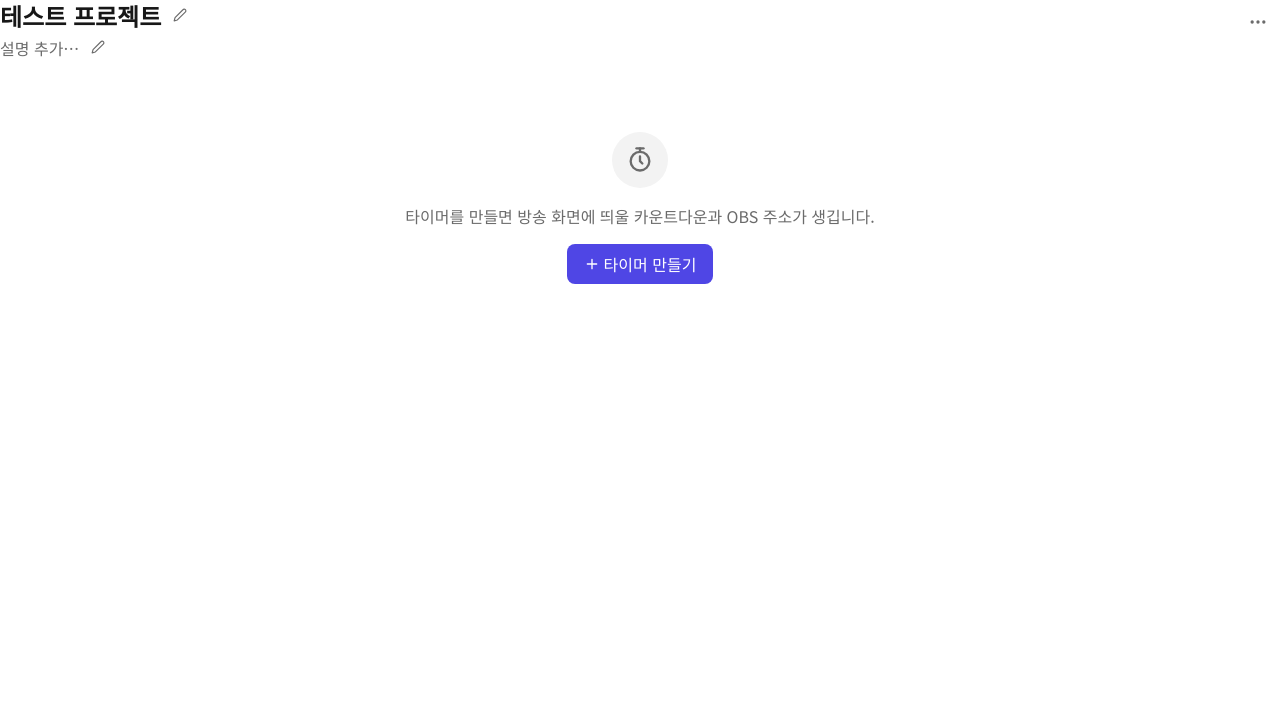
프로젝트 상세 키보드 포커스 › 새 타이머 모달을 열면 미리 채워진 제목 대신 시간 칸에 포커스가 간다
Click the button "타이머 만들기".
click(640, 264)  # box 567,244 -> 713,284
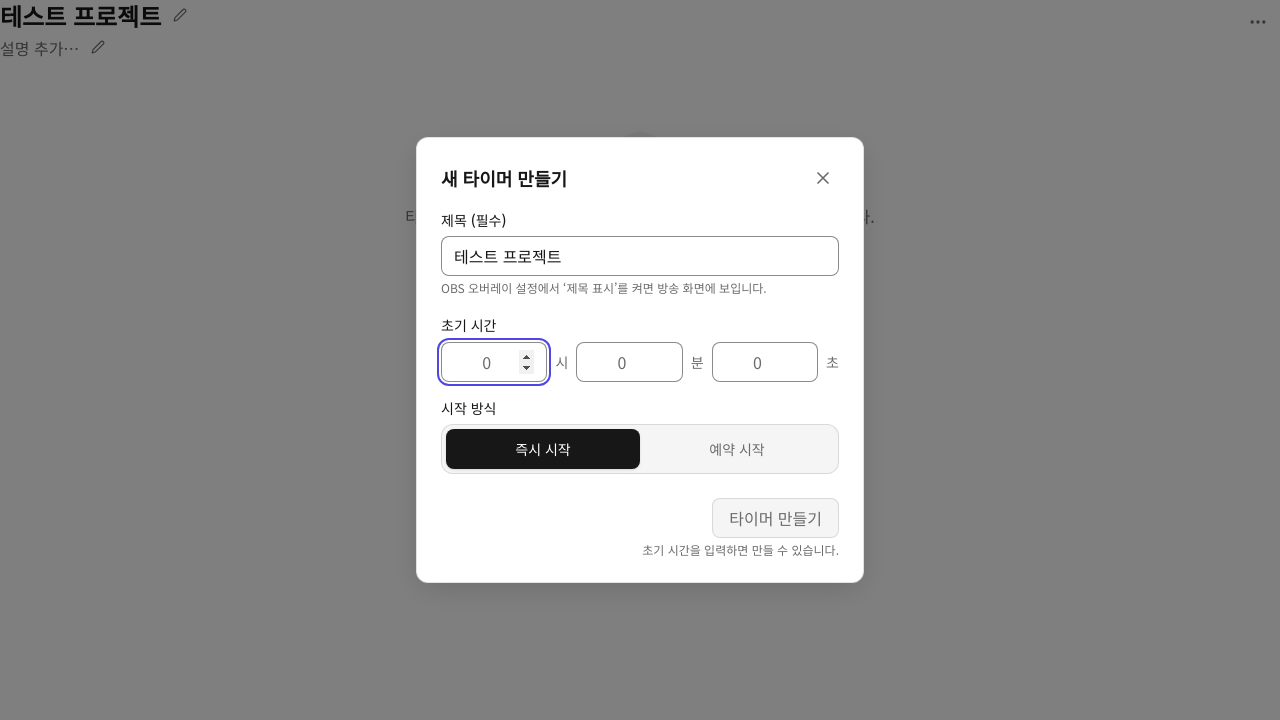
Now the heading "새 타이머 만들기" is shown, box 441,164 -> 567,192
